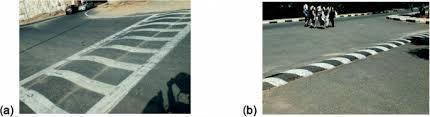speedbreaker: (22, 15, 186, 108), (262, 31, 428, 90)
